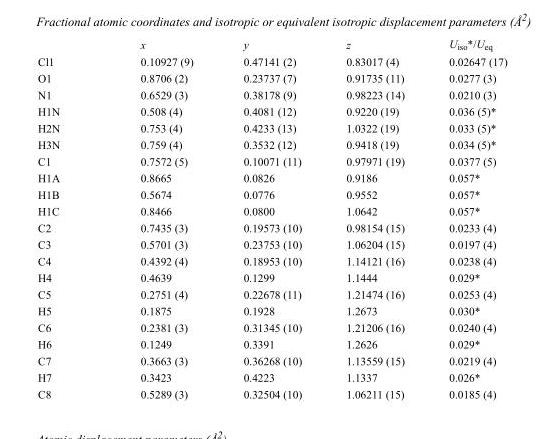table: (37, 36, 506, 399)
table column: (99, 36, 217, 399), (217, 36, 323, 399), (323, 36, 426, 399), (426, 36, 506, 399), (37, 36, 99, 399)
table column header: (37, 36, 506, 52)
table row: (37, 52, 506, 69), (37, 69, 506, 86), (37, 102, 506, 119), (37, 135, 506, 152), (37, 152, 506, 169), (37, 185, 506, 202), (37, 202, 506, 219), (37, 235, 506, 252), (37, 268, 506, 285), (37, 285, 506, 302), (37, 318, 506, 335), (37, 335, 506, 352), (37, 368, 506, 385), (37, 36, 506, 52), (37, 86, 506, 102), (37, 119, 506, 135), (37, 169, 506, 185), (37, 219, 506, 235), (37, 252, 506, 268), (37, 302, 506, 318), (37, 352, 506, 368), (37, 385, 506, 399)
